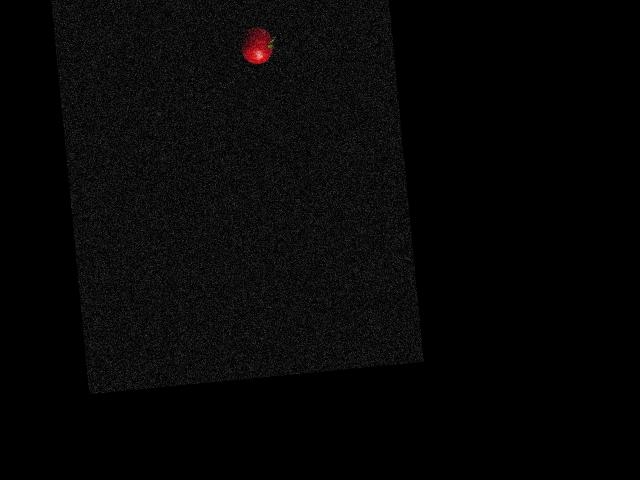tomato: (240, 25, 274, 65)
